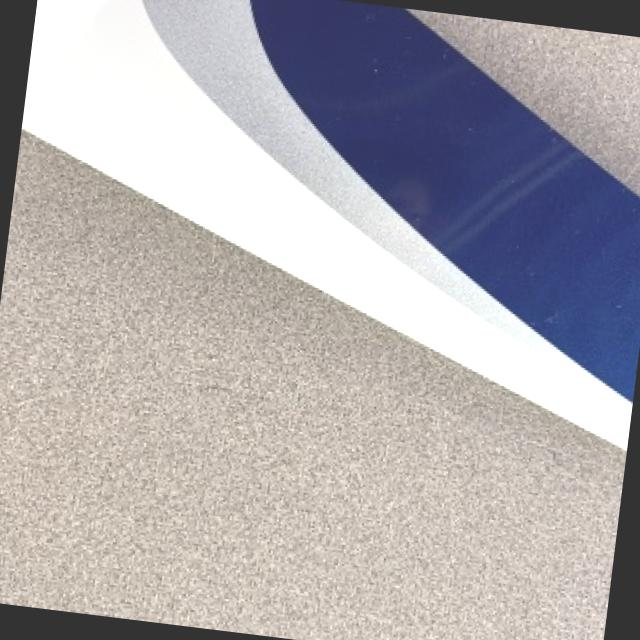healthy: (0, 129, 620, 640), (21, 0, 640, 446)
